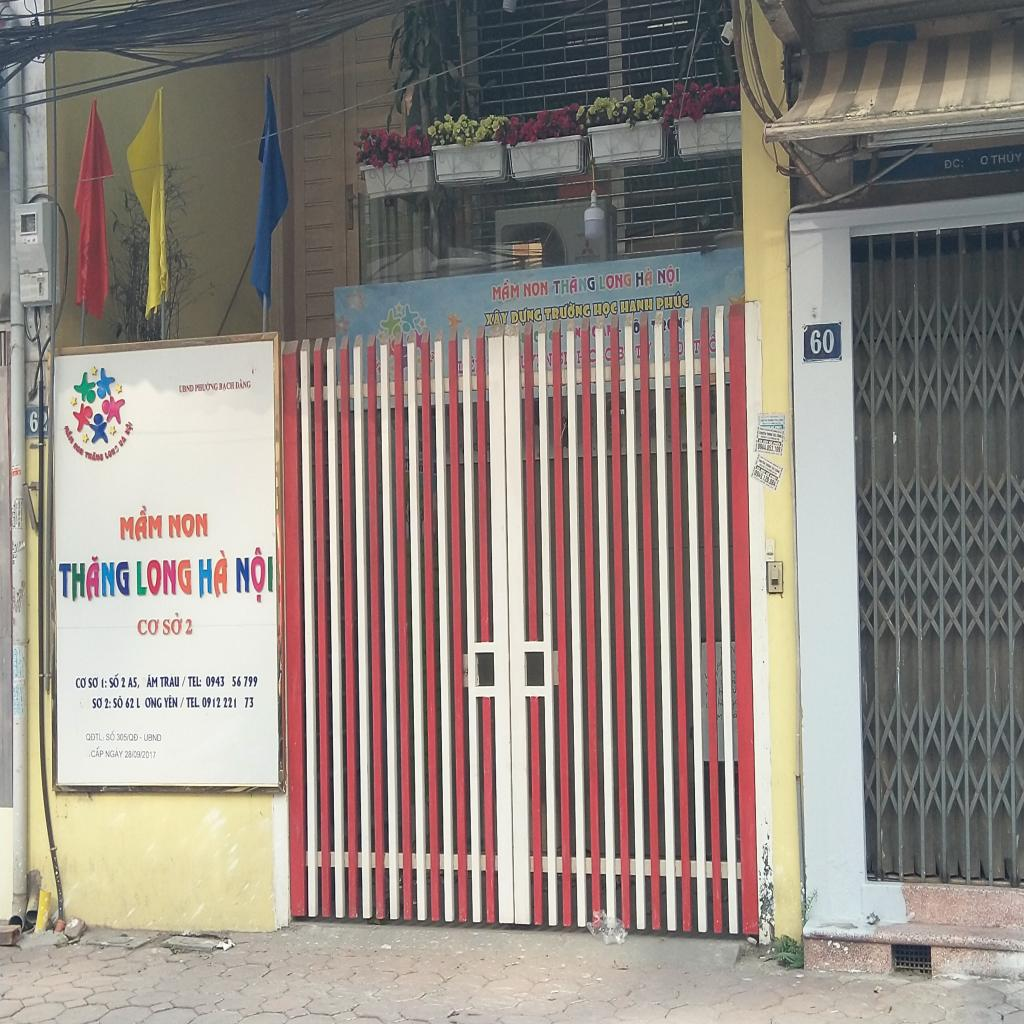text: (56, 554, 131, 604), (234, 542, 274, 605), (134, 559, 192, 597), (196, 546, 229, 602), (118, 505, 164, 542), (542, 299, 591, 324), (552, 272, 596, 298), (167, 512, 209, 539), (597, 270, 633, 294), (655, 288, 690, 312), (809, 325, 835, 357), (509, 304, 544, 327), (490, 277, 520, 303), (618, 296, 654, 316), (656, 262, 681, 289), (482, 307, 510, 329), (590, 298, 618, 319), (991, 148, 1023, 166), (202, 694, 238, 710), (162, 609, 183, 636), (522, 280, 550, 299), (634, 264, 654, 290), (753, 469, 777, 489), (136, 616, 160, 636), (230, 675, 259, 688), (62, 421, 76, 446), (942, 157, 964, 171), (159, 674, 180, 688), (104, 443, 120, 461), (194, 380, 218, 392), (204, 675, 226, 688), (84, 449, 104, 463), (105, 746, 124, 760), (234, 377, 252, 391), (756, 444, 781, 454), (29, 410, 39, 434), (123, 418, 135, 438), (163, 694, 179, 709), (144, 696, 162, 709), (116, 732, 139, 742), (90, 744, 104, 760), (708, 327, 716, 354), (108, 672, 120, 690), (71, 441, 85, 456), (186, 696, 200, 710), (146, 674, 159, 689), (186, 676, 202, 688), (692, 337, 702, 356), (91, 696, 104, 710), (128, 675, 140, 690), (84, 732, 104, 741), (117, 434, 128, 450), (178, 383, 194, 394), (219, 381, 235, 392), (184, 617, 193, 636), (75, 676, 87, 690), (88, 676, 100, 690), (242, 695, 254, 709), (144, 733, 162, 742), (113, 694, 123, 709), (604, 345, 612, 363), (125, 696, 135, 710), (980, 153, 990, 166), (106, 729, 116, 742), (634, 344, 642, 360), (104, 695, 112, 709), (590, 346, 596, 364), (618, 344, 624, 362), (563, 348, 568, 365), (120, 675, 126, 689), (135, 697, 141, 709), (100, 675, 104, 690)
